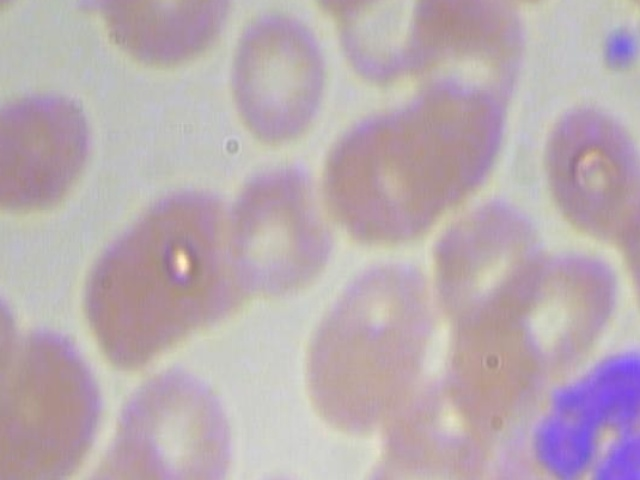Platelets: (594, 22, 640, 78)
RBC: (215, 147, 333, 307), (103, 356, 254, 480), (398, 0, 535, 127), (429, 188, 552, 329), (220, 8, 332, 152), (540, 98, 640, 238), (0, 74, 94, 217), (77, 0, 240, 82), (348, 429, 497, 480), (605, 184, 640, 351), (227, 465, 347, 480)
WBC: (489, 334, 640, 480)
